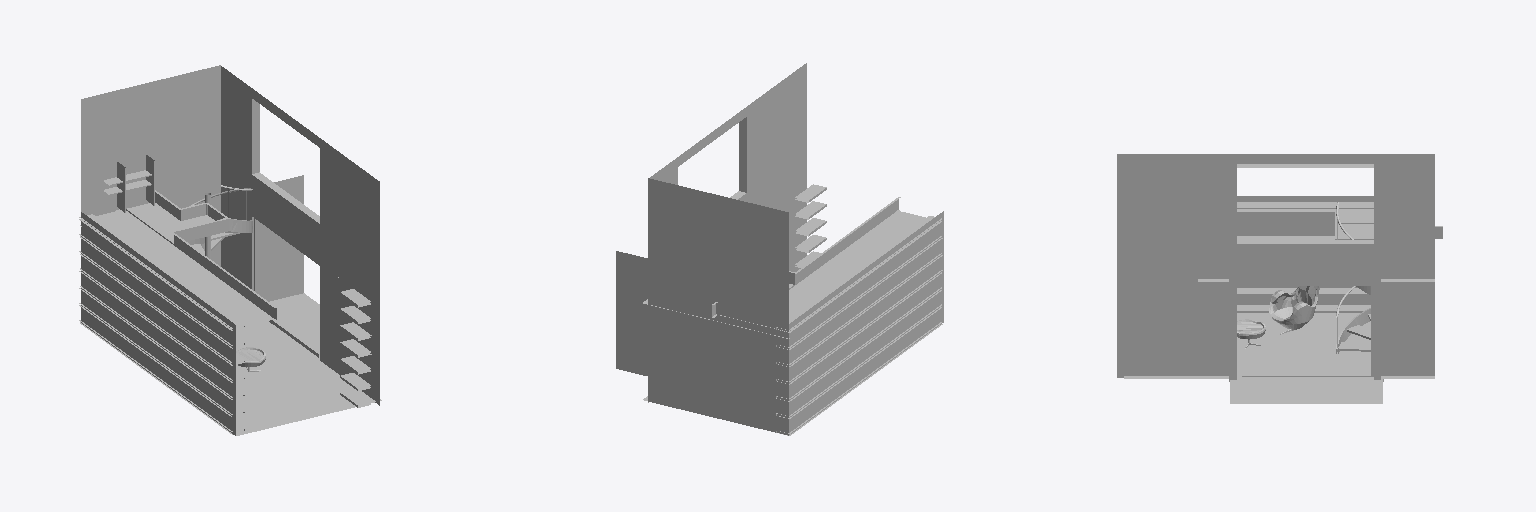
Rendered from library.obj.
3 views of the same model, side by side, from view 1: azimuth 30°, elevation 25°; view 2: azimuth 150°, elevation 25°; view 3: azimuth 270°, elevation 25° (orthographic).
Bounding box in the file's own units: 3.03 × 3.6 × 4.28.